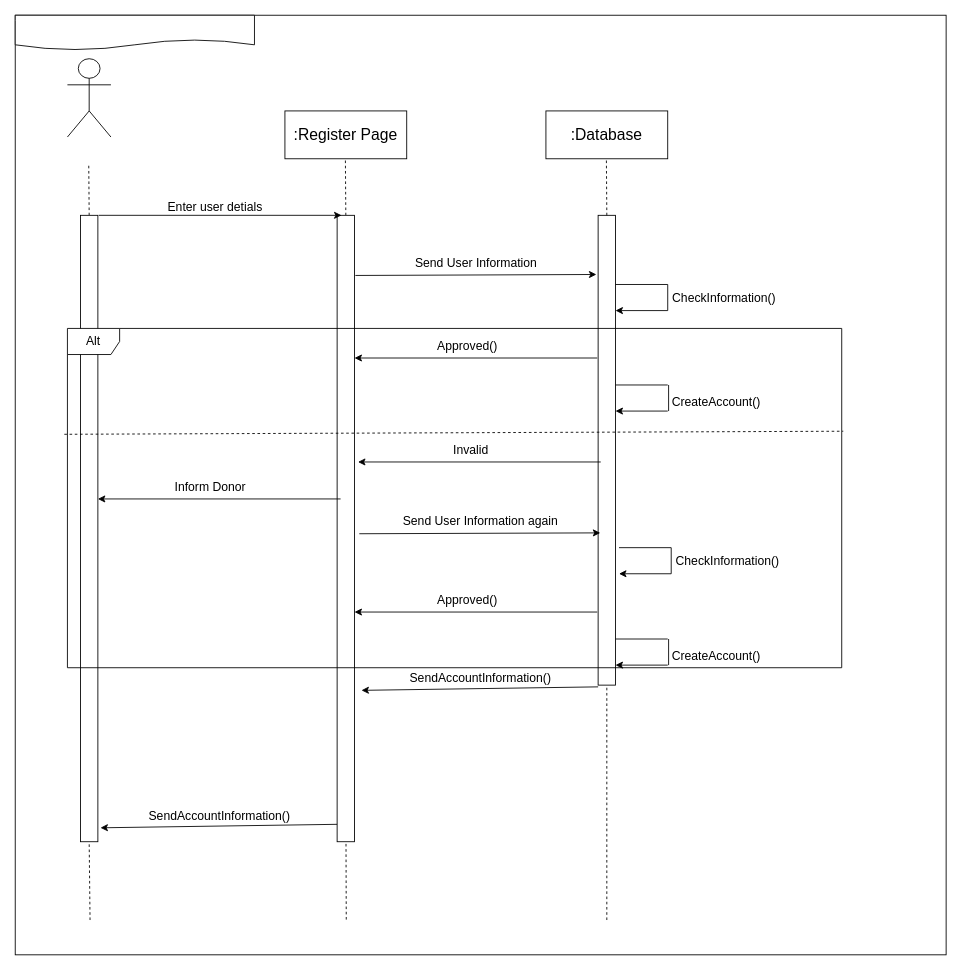
This 961x970 diagram has some shape labels left out. The shapes that lost their labels are listed below. From the top down, each one's centre as x and y in pixels, then its label:
At [134,32]: "Registration Use Case".
At [89,97]: "aDonor".
